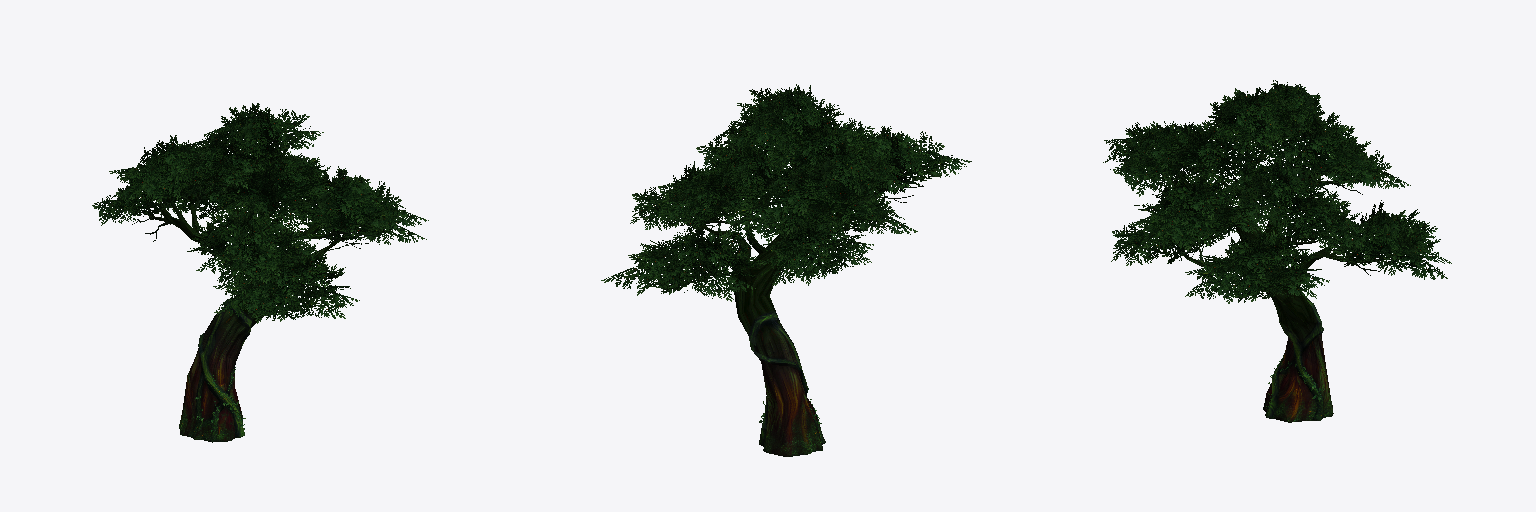
3 views of the same model, side by side, from view 1: azimuth 30°, elevation 25°; view 2: azimuth 150°, elevation 25°; view 3: azimuth 270°, elevation 25° (orthographic).
Parts seen in each view (by area): view 1: World_Expansion05_doodads_tanaanjungle_doodads_6tj_patchtre.005, World_Expansion05_doodads_tanaanjungle_doodads_6tj_patchtre.004; view 2: World_Expansion05_doodads_tanaanjungle_doodads_6tj_patchtre.005, World_Expansion05_doodads_tanaanjungle_doodads_6tj_patchtre.004; view 3: World_Expansion05_doodads_tanaanjungle_doodads_6tj_patchtre.005, World_Expansion05_doodads_tanaanjungle_doodads_6tj_patchtre.004.
Boxes of the visible parts, box(x1,y1,x2,y2) form: World_Expansion05_doodads_tanaanjungle_doodads_6tj_patchtre.005: box(92, 103, 428, 323); World_Expansion05_doodads_tanaanjungle_doodads_6tj_patchtre.004: box(148, 155, 344, 442); World_Expansion05_doodads_tanaanjungle_doodads_6tj_patchtre.005: box(601, 84, 971, 301); World_Expansion05_doodads_tanaanjungle_doodads_6tj_patchtre.004: box(700, 136, 887, 456); World_Expansion05_doodads_tanaanjungle_doodads_6tj_patchtre.005: box(1103, 80, 1451, 303); World_Expansion05_doodads_tanaanjungle_doodads_6tj_patchtre.004: box(1166, 141, 1381, 422).
Bounding box in the file's own units: 142 × 166 × 159.
Materials: 3 (3 with a texture image).